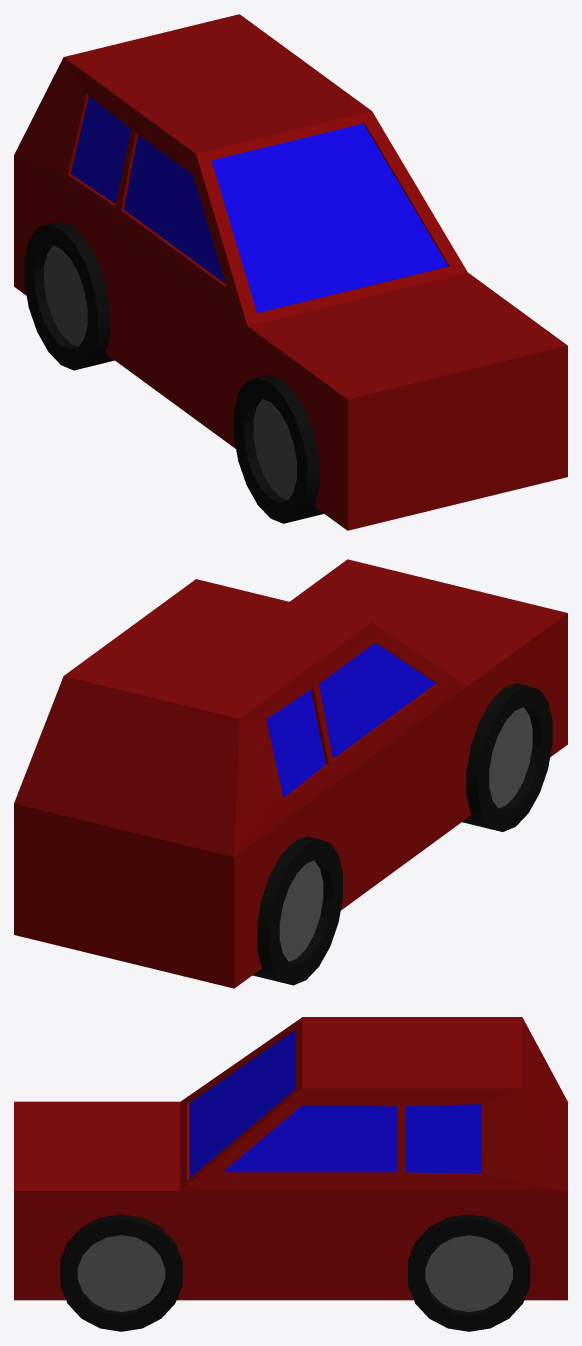
Rendered from car1.FBX.
3 renders of one model, top to bottom at view 1: azimuth 30°, elevation 25°; view 2: azimuth 150°, elevation 25°; view 3: azimuth 270°, elevation 25°, orthographic. The views are drawn at different scales.
Parts seen in each view (by area): view 1: Box001, Cylinder002, Cylinder001; view 2: Box001, Cylinder001, Cylinder002; view 3: Box001, Cylinder004, Cylinder003.
Part boxes in pixels (x1=…): Box001: x1=14, y1=14, x2=567, y2=530; Cylinder002: x1=24, y1=221, x2=114, y2=370; Cylinder001: x1=233, y1=374, x2=323, y2=523; Box001: x1=14, y1=559, x2=567, y2=988; Cylinder001: x1=462, y1=683, x2=552, y2=831; Cylinder002: x1=252, y1=836, x2=342, y2=985; Box001: x1=14, y1=1017, x2=567, y2=1300; Cylinder004: x1=60, y1=1214, x2=182, y2=1331; Cylinder003: x1=408, y1=1214, x2=530, y2=1331.
Bounding box in the file's own units: 0.4566 × 0.4919 × 1.08.
